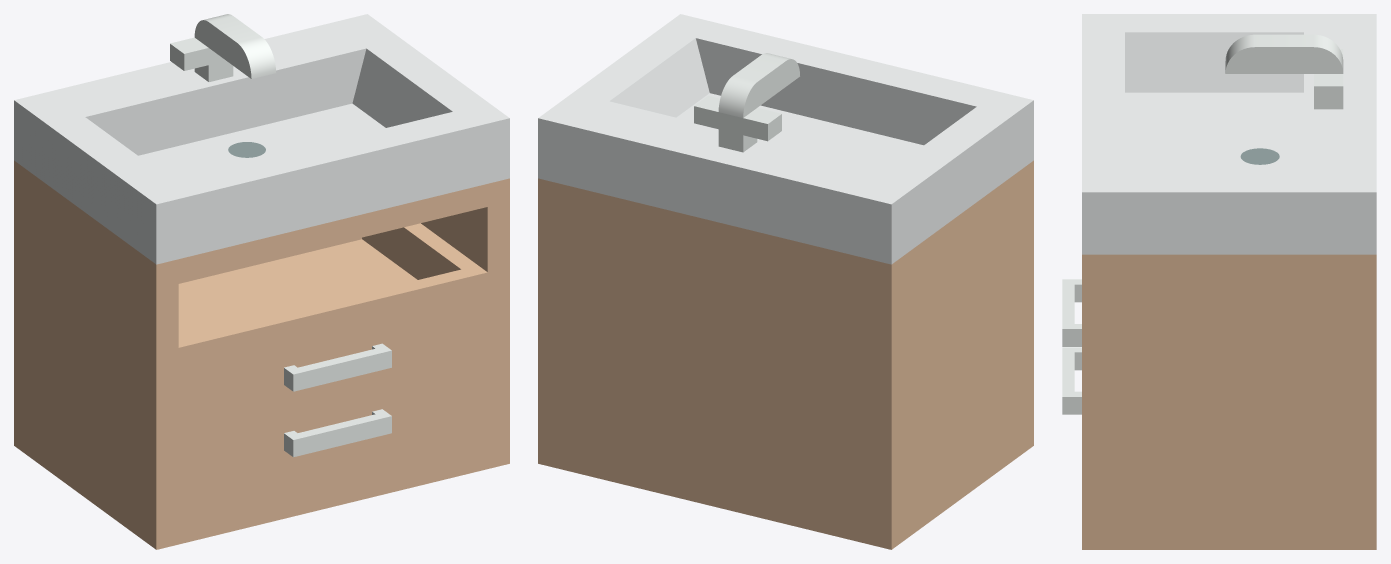
File: bathroomCabinetDrawer.glb
3 renders of one model, left to right at view 1: azimuth 30°, elevation 25°; view 2: azimuth 150°, elevation 25°; view 3: azimuth 270°, elevation 25°, orthographic. The views are drawn at different scales.
Parts seen in each view (by area): view 1: bathroomCabinetDrawer(Clone), drawerTop, drawerBottom; view 2: bathroomCabinetDrawer(Clone); view 3: bathroomCabinetDrawer(Clone), drawerBottom, drawerTop.
Boxes of the visible parts, x1,y1,x2,y2 form: bathroomCabinetDrawer(Clone): (14,14,509,549); drawerTop: (178,223,487,455); drawerBottom: (178,338,487,521); bathroomCabinetDrawer(Clone): (538,14,1033,549); bathroomCabinetDrawer(Clone): (1082,14,1376,549); drawerBottom: (1062,347,1081,414); drawerTop: (1062,279,1081,346).
Size of the model in its own units: 0.86 by 0.9435 by 0.64.
